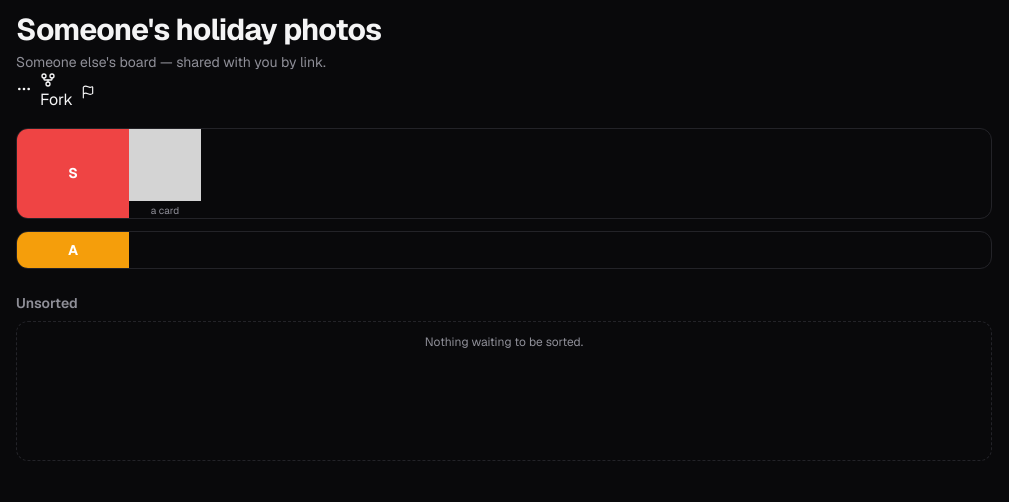
Test case: the fork button on someone else's board › asks a signed-out visitor to sign in, and does not attempt to write
Click the button "Fork": point(56, 92) [40,72,73,112]
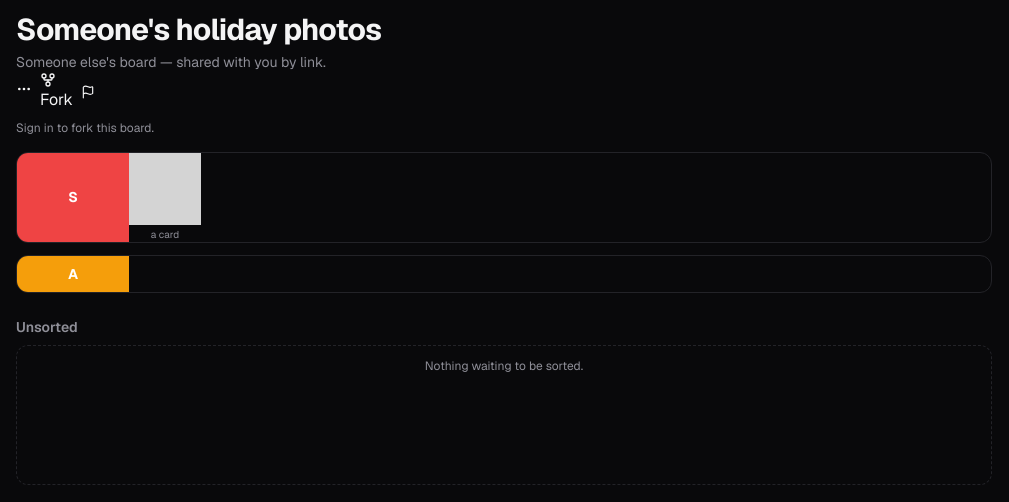
expect the text "Sign in to fork this board." is shown: met, box [16,120,154,136]
